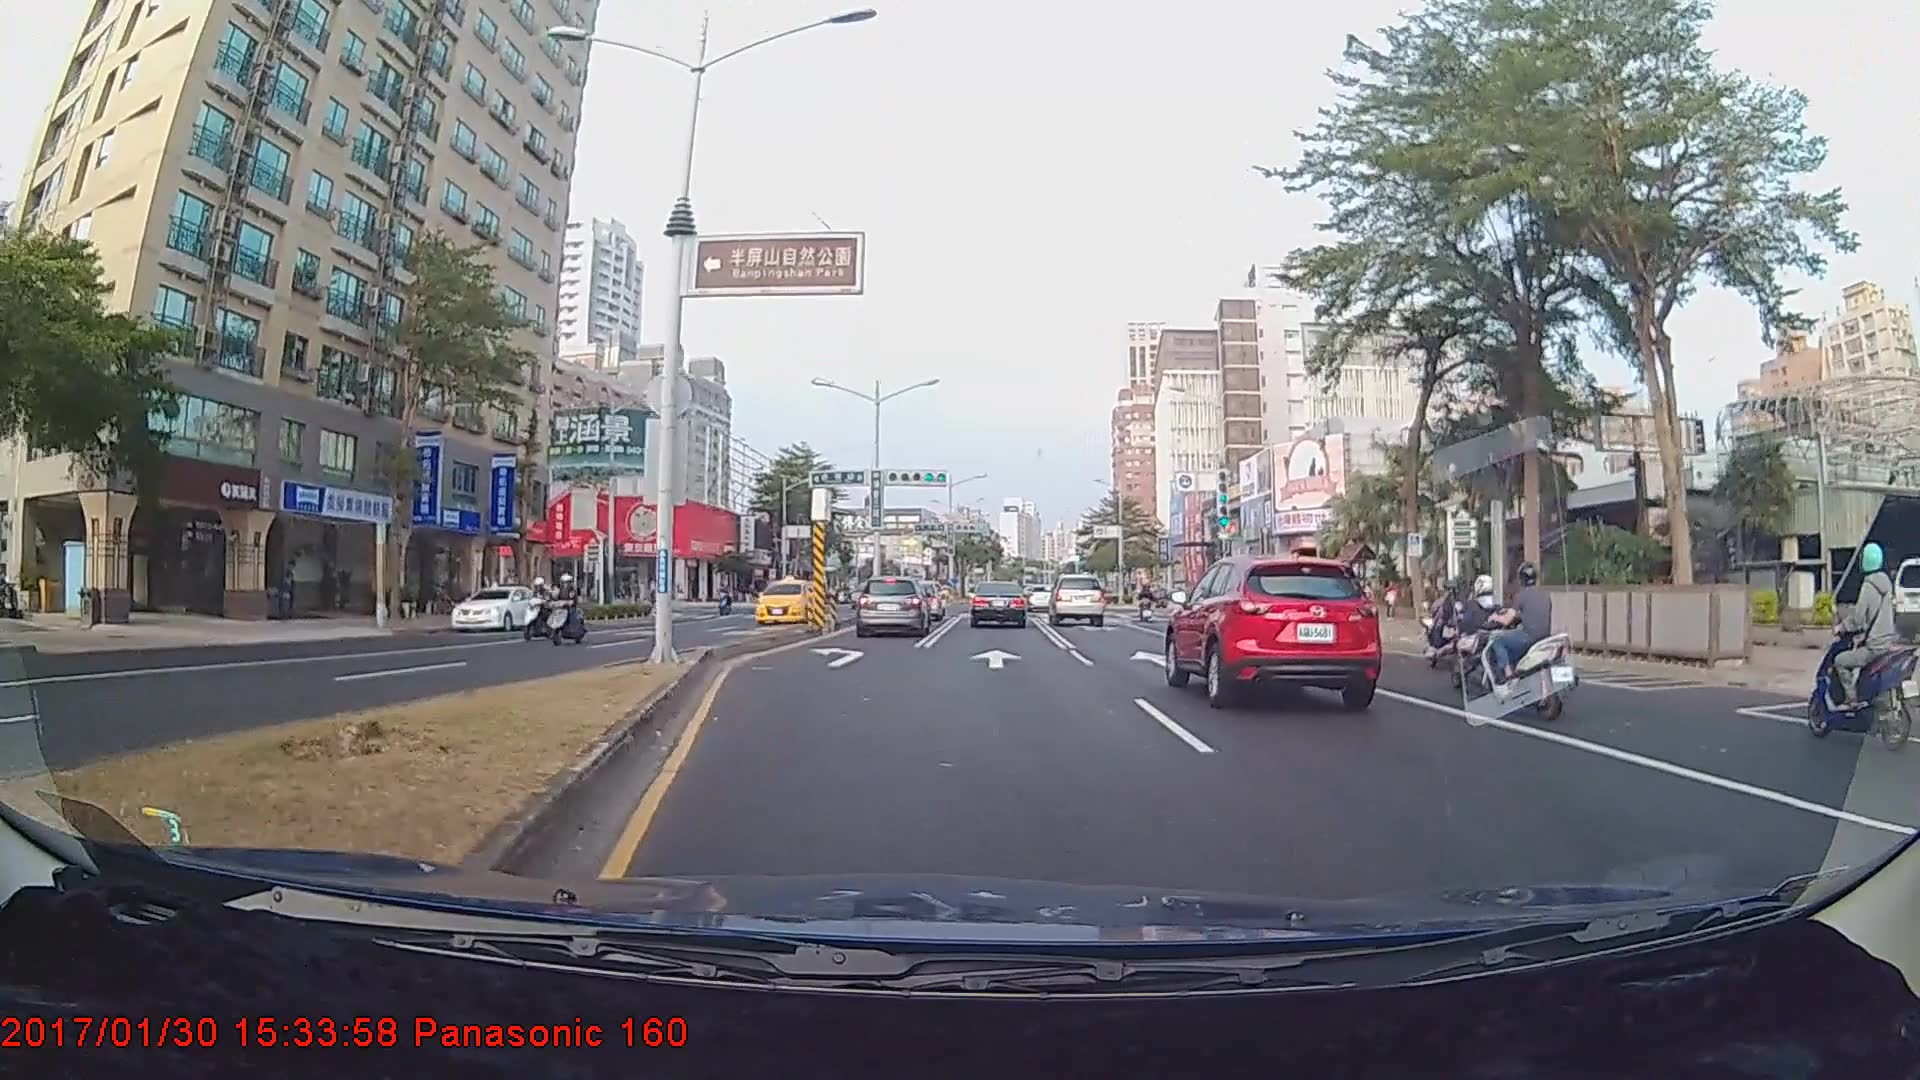rider: (1812, 536, 1917, 762), (1484, 564, 1592, 722), (1447, 568, 1519, 692), (1421, 573, 1476, 674), (544, 574, 585, 648), (519, 576, 559, 644)
vehicle: (1163, 550, 1384, 707), (853, 576, 931, 638), (451, 583, 546, 631), (1048, 572, 1106, 627), (750, 580, 818, 625), (970, 579, 1027, 629)
